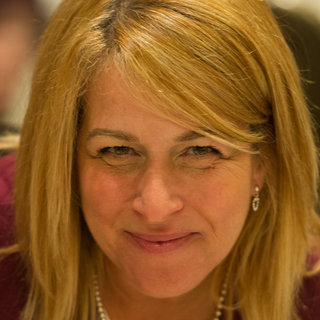eye: (179, 139, 230, 163), (94, 140, 142, 164)
